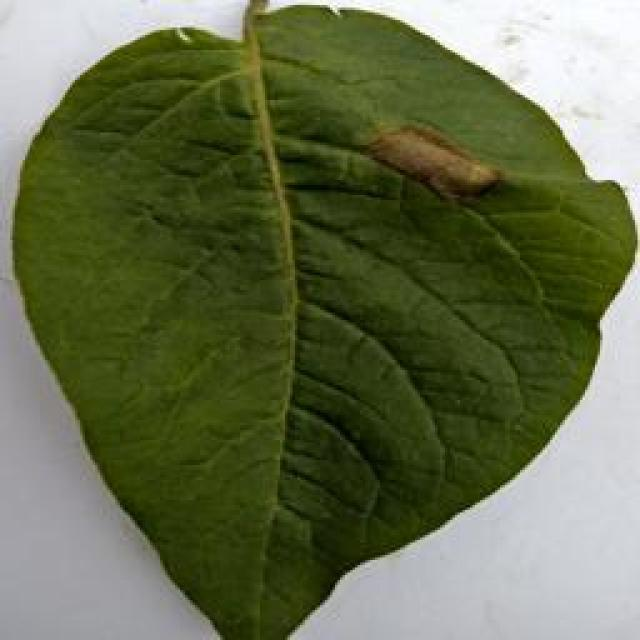Potato_Late_Blight: (16, 9, 625, 637)
